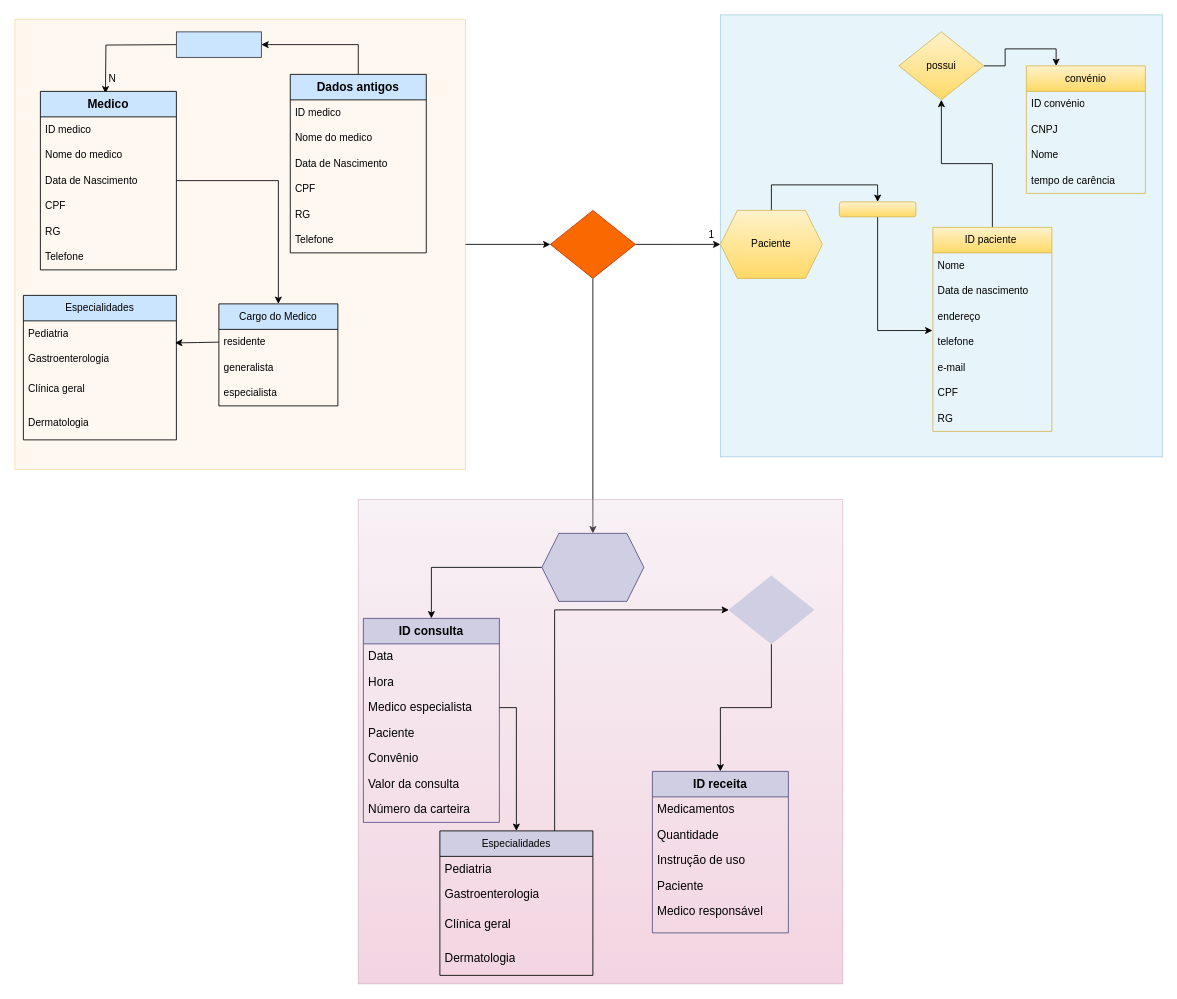
Some shapes in this 1177 by 999 pixel diagram are drawn without their labels. The shapes that lost their labels are listed below. From the top down, each one's centre as x and y in pixels, then its label:
[218,44]: Recebe
[877,209]: Cadastro
[592,244]: Realiza/Atende
[592,567]: Consulta
[771,609]: encerramento da consulta
